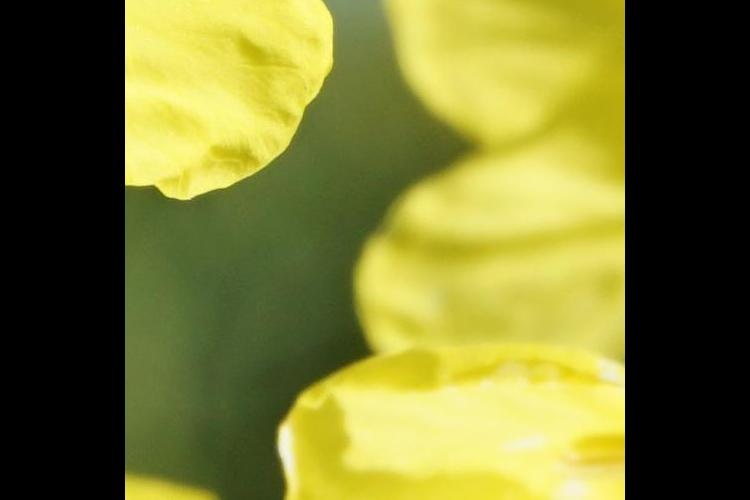yellow: (347, 1, 617, 500)
